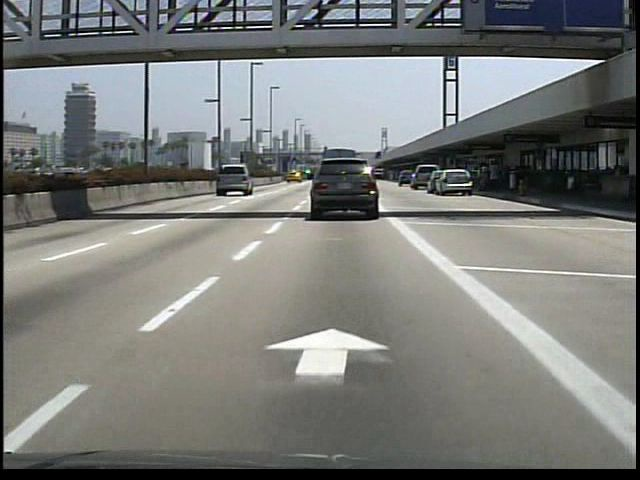person: (486, 158, 503, 195), (473, 163, 489, 196)
